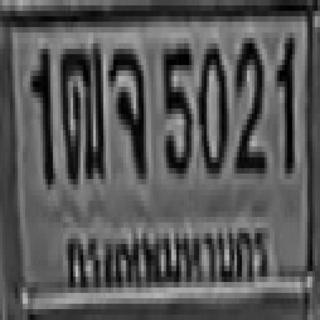A08: (107, 43, 145, 174)
A18: (58, 38, 103, 179)
N00: (197, 38, 227, 174)
N01: (30, 44, 50, 179), (275, 32, 292, 168)
N02: (233, 35, 263, 171)
N05: (161, 41, 189, 171)
P04: (60, 221, 275, 294)
